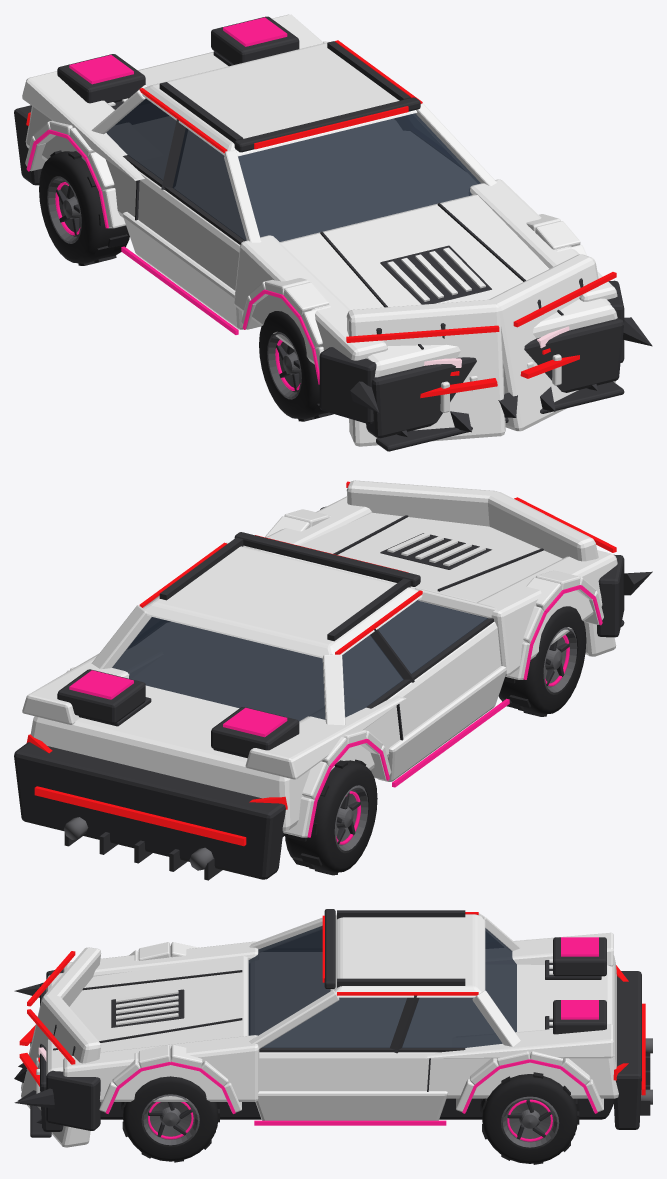
The model's file is rammer_hero.glb.
3 views of the same model, one above another, from view 1: azimuth 30°, elevation 25°; view 2: azimuth 150°, elevation 25°; view 3: azimuth 270°, elevation 25° (orthographic). The views are drawn at different scales.
Parts seen in each view (by area): view 1: rammer_body, wheel_RL_mesh, wheel_FL_mesh; view 2: rammer_body, wheel_RL_mesh, wheel_FL_mesh; view 3: rammer_body, wheel_RR_mesh, wheel_FR_mesh.
Boxes of the visible parts, x1,y1,x2,y2 form: rammer_body: (14, 14, 652, 451); wheel_RL_mesh: (39, 150, 129, 265); wheel_FL_mesh: (259, 311, 333, 421); rammer_body: (14, 480, 652, 880); wheel_RL_mesh: (285, 759, 377, 875); wheel_FL_mesh: (498, 606, 586, 716); rammer_body: (14, 909, 652, 1147); wheel_RR_mesh: (480, 1072, 579, 1164); wheel_FR_mesh: (121, 1076, 220, 1162).
Bounding box in the file's own units: 2.14 × 1.34 × 4.73.
6 materials, 1 textured.
